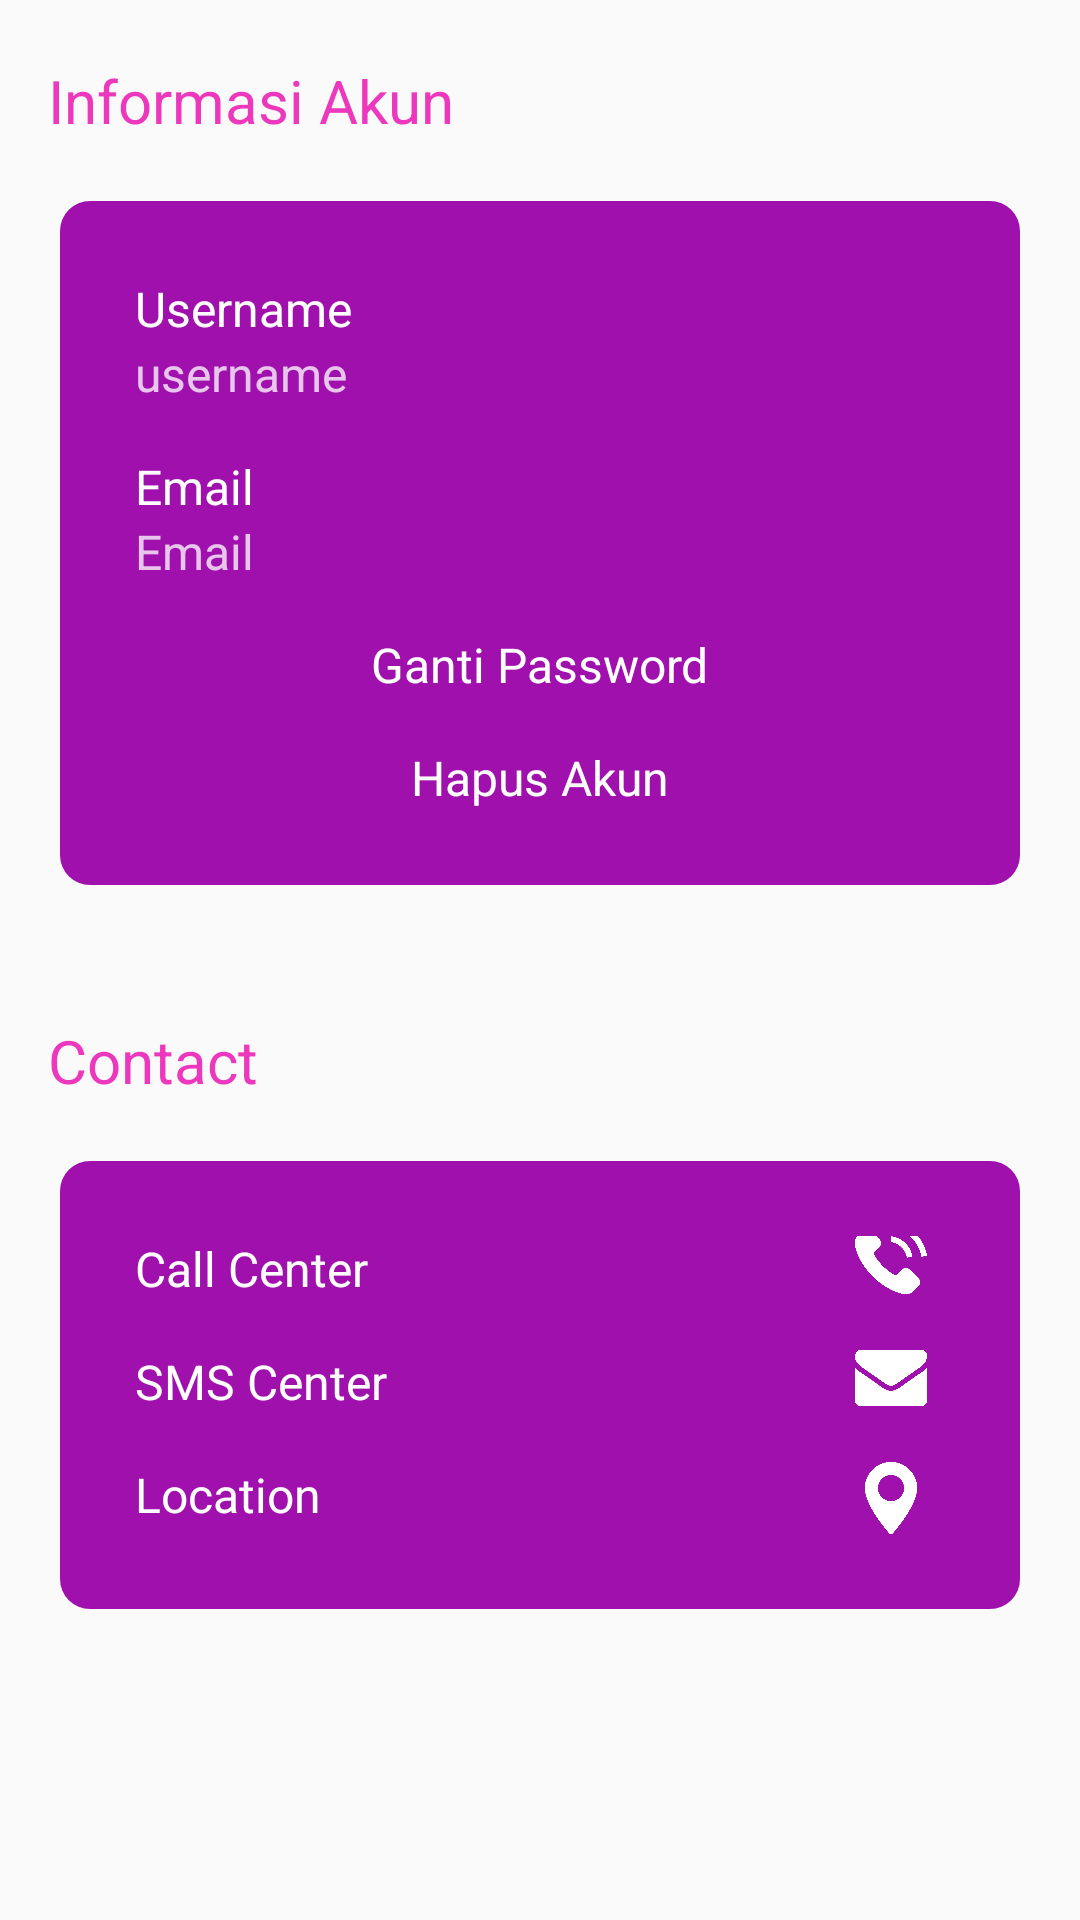

Icon click points for this 1080 x 1920 phone screenshot, format (x,y):
envelope: (891,1378)
location: (891,1498)
telephone: (891,1265)
